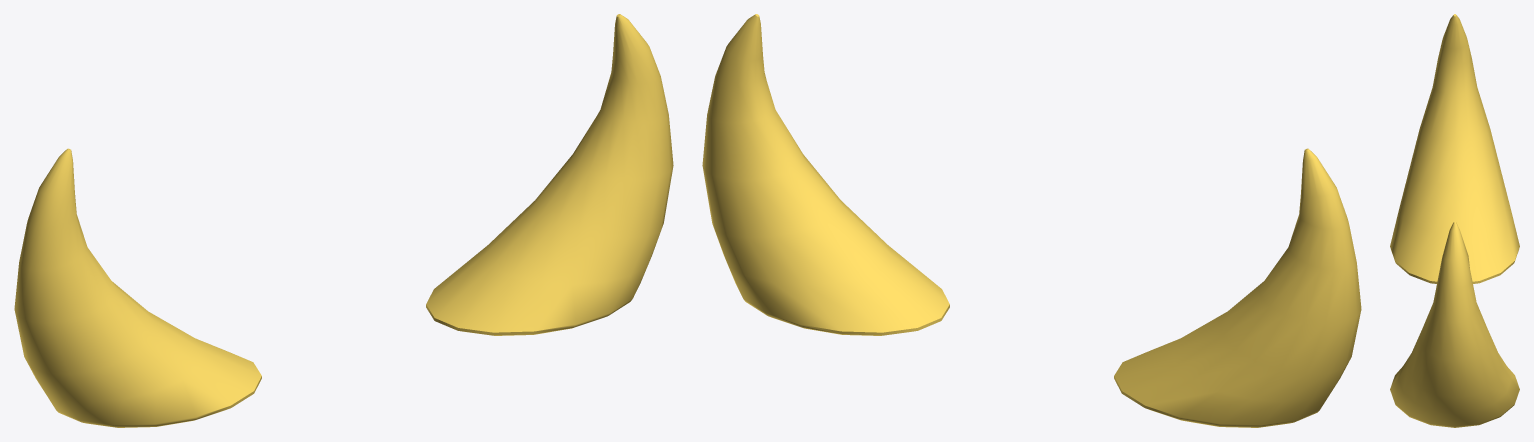
File: horns-gold.glb
3 views of the same model, side by side, from view 1: azimuth 30°, elevation 25°; view 2: azimuth 150°, elevation 25°; view 3: azimuth 270°, elevation 25° (orthographic). The views are drawn at different scales.
Parts seen in each view (by area): view 1: Horns; view 2: Horns; view 3: Horns.
Part boxes in pixels (x1=…): Horns: x1=14, y1=14, x2=673, y2=427; Horns: x1=702, y1=14, x2=1361, y2=427; Horns: x1=1390, y1=14, x2=1519, y2=427.
Bounding box in the file's own units: 7.44 × 2.89 × 1.67.
